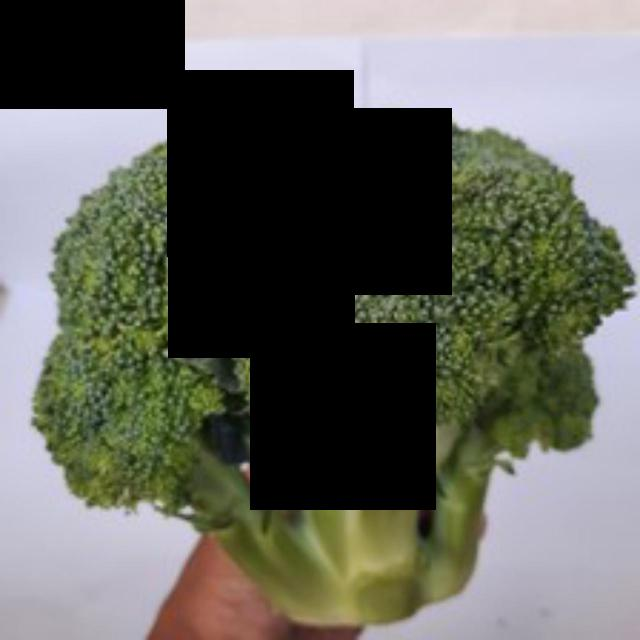broccoli: (37, 103, 637, 637)
